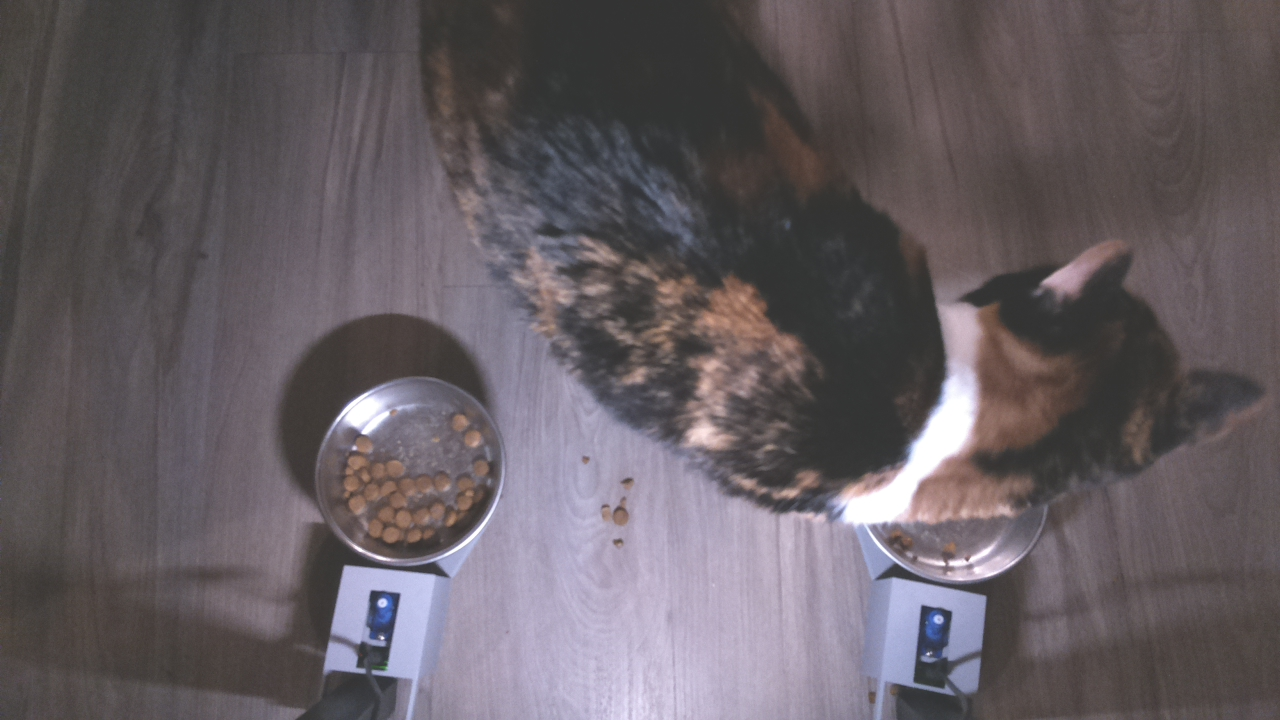bella_eating: (864, 239, 1237, 584)
open_bowl: (309, 371, 508, 571)
